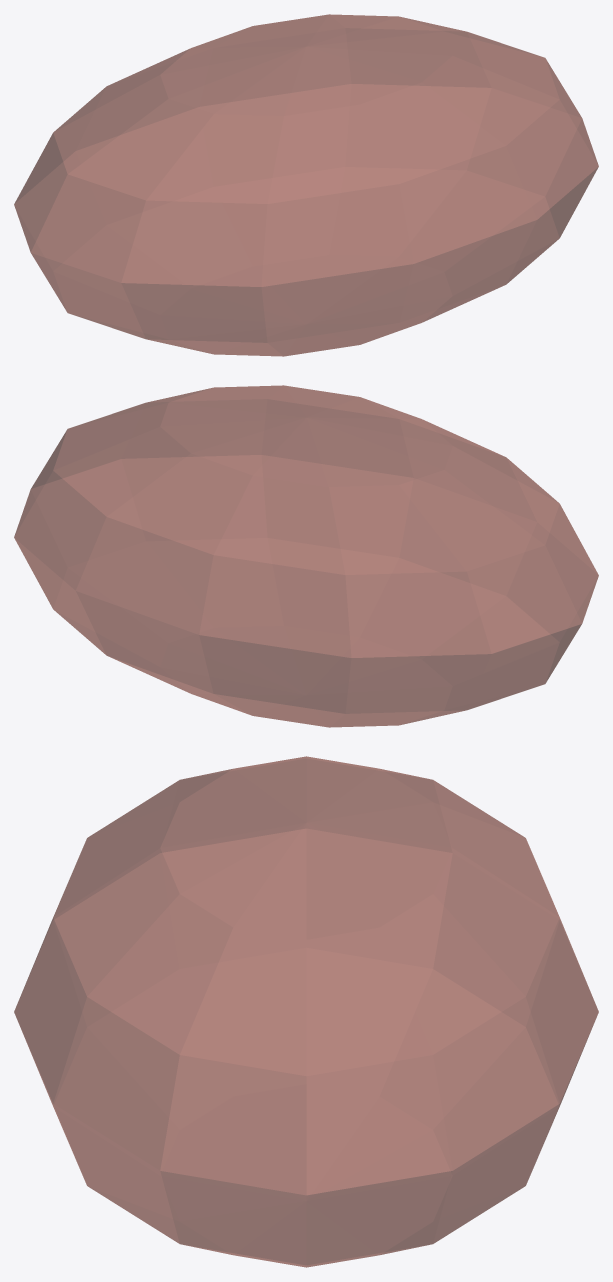
Rendered from EatenWideFront.fbx.
The picture shows the model from 3 angles, top to bottom: view 1: azimuth 30°, elevation 25°; view 2: azimuth 150°, elevation 25°; view 3: azimuth 270°, elevation 25°; orthographic projection. The views are drawn at different scales.
Parts seen in each view (by area): view 1: pSphere1; view 2: pSphere1; view 3: pSphere1.
Boxes of the visible parts, <box> form: pSphere1: <box>14,14,598,356</box>; pSphere1: <box>14,385,598,727</box>; pSphere1: <box>14,756,598,1267</box>.
Size of the model in its own units: 9.91 by 4.77 by 6.68.
